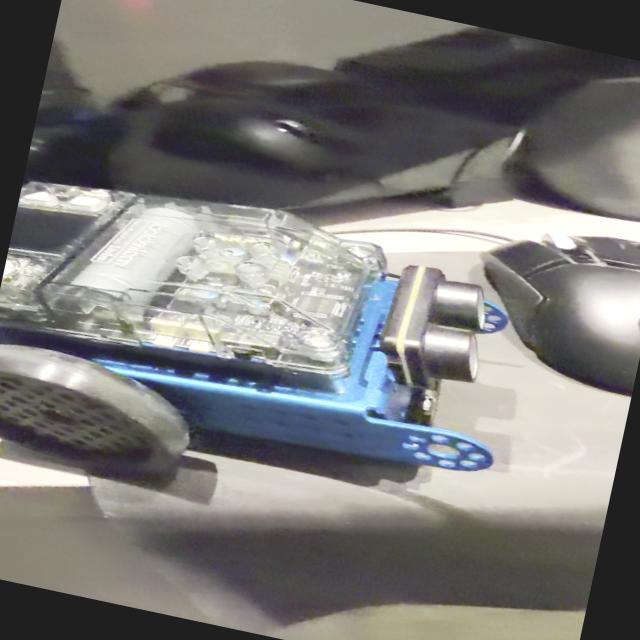mbot-detection: (0, 157, 541, 562)
